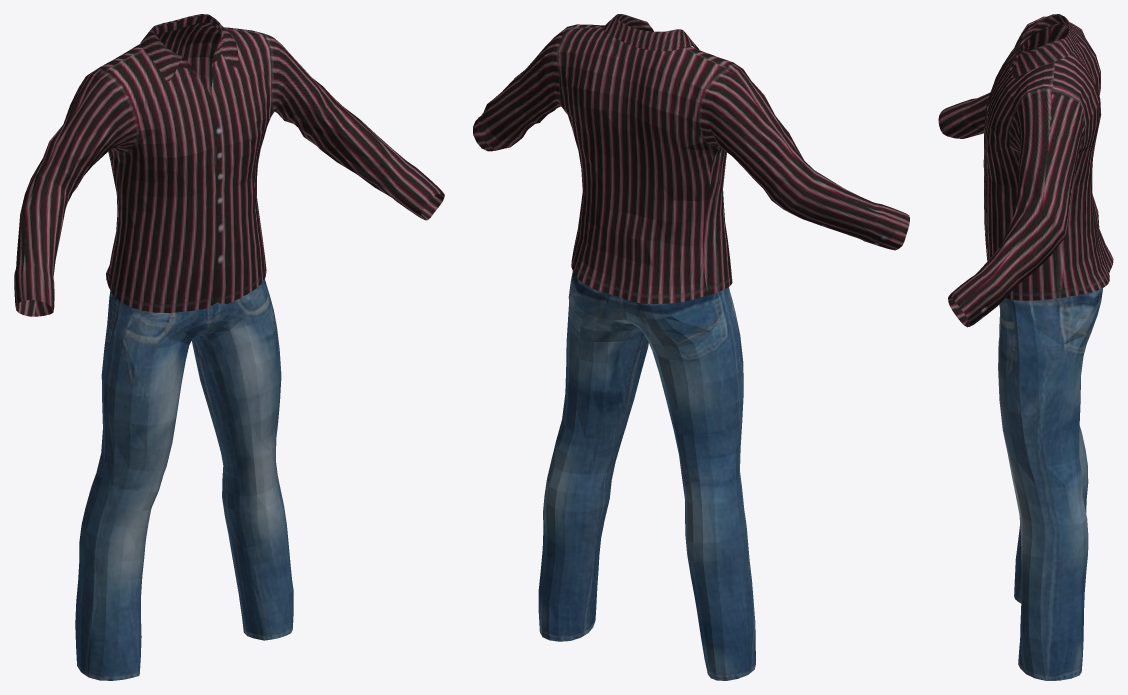
The model's file is mhw_male_casualsuit03.glb.
The picture shows the model from 3 angles, left to right: view 1: azimuth 30°, elevation 25°; view 2: azimuth 150°, elevation 25°; view 3: azimuth 270°, elevation 25°; orthographic projection. The views are drawn at different scales.
Parts seen in each view (by area): view 1: mhw_male_casualsuit03; view 2: mhw_male_casualsuit03; view 3: mhw_male_casualsuit03.
Part boxes in pixels (x1,y1,x2,y2): mhw_male_casualsuit03: [14, 14, 444, 680]; mhw_male_casualsuit03: [473, 14, 909, 680]; mhw_male_casualsuit03: [938, 14, 1113, 680].
Size of the model in its own units: 1.11 by 1.56 by 0.4064.
1 material, 1 textured.
